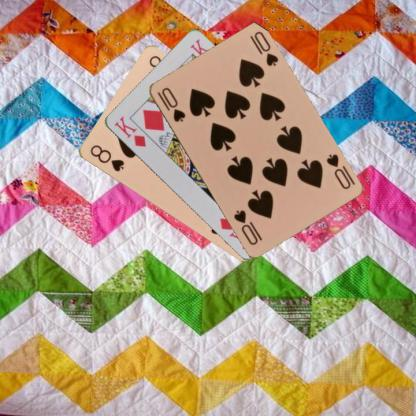10s: (154, 84, 186, 124), (323, 150, 352, 190)
8s: (87, 142, 125, 173)
Kd: (111, 113, 147, 148)
